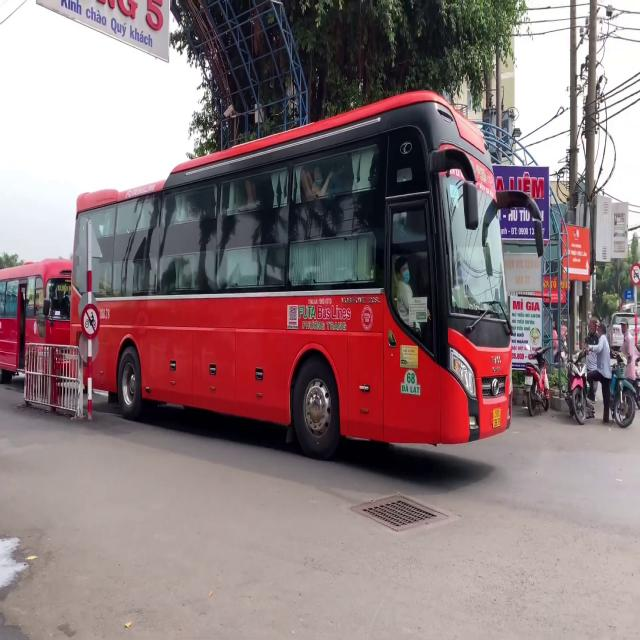bien_vang: (492, 409, 502, 428)
